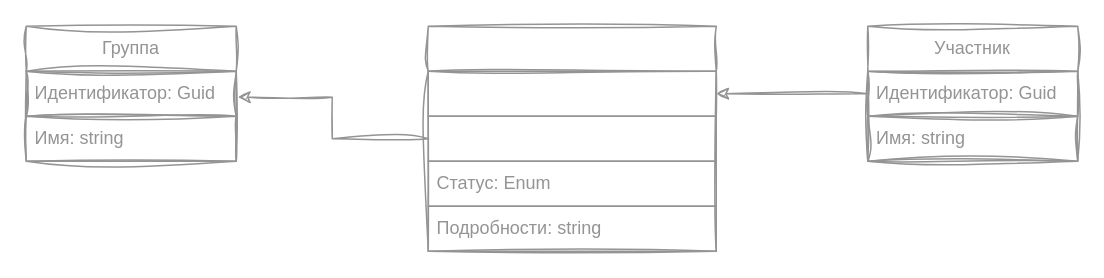
This 1104x278 diagram has some shape labels left out. Each missing label, with the box of its shape:
Идентификатор группы: Guid: (427, 115, 716, 161)
Идентификатор участника: Guid: (427, 70, 716, 116)
Членства группы: (427, 25, 716, 251)
